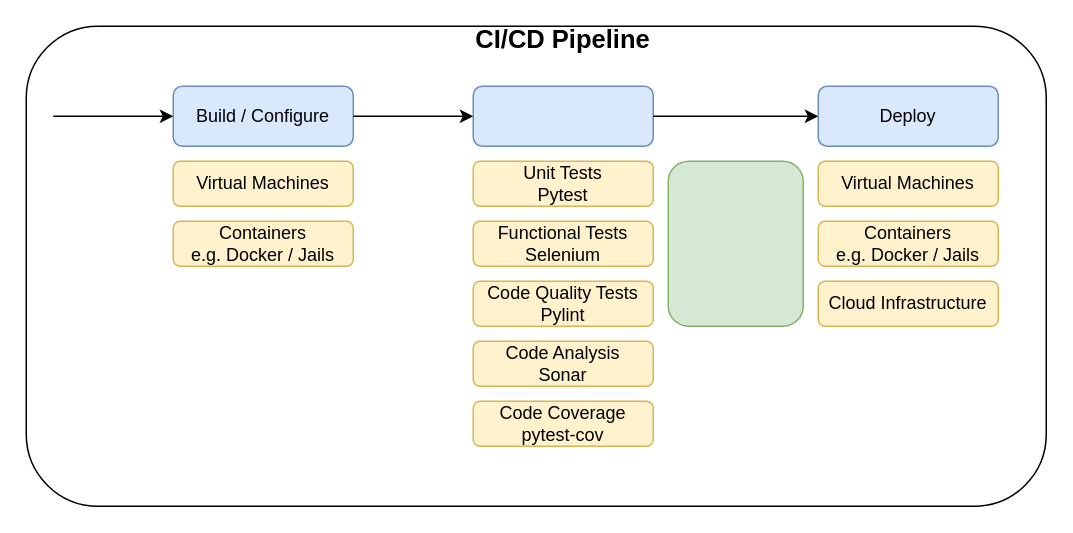
Some shapes in this 1073 by 533 pixel diagram are drawn without their labels. The shapes that lost their labels are listed below. From the top down, each one's centre as x and y in pixels, then its label:
At [562,115]: "Scan / Test".
At [735,243]: "Configuration Management Tools Chef Puppet Ansible".
